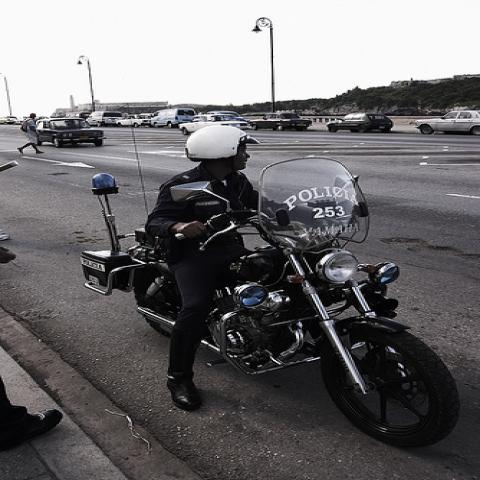car: (35, 118, 104, 147), (413, 110, 479, 136), (177, 114, 249, 136), (248, 111, 312, 132), (327, 113, 393, 133), (150, 108, 196, 128), (85, 112, 128, 128), (207, 110, 251, 122), (119, 114, 155, 128), (6, 116, 17, 124)
motorcycle: (79, 159, 455, 455)
